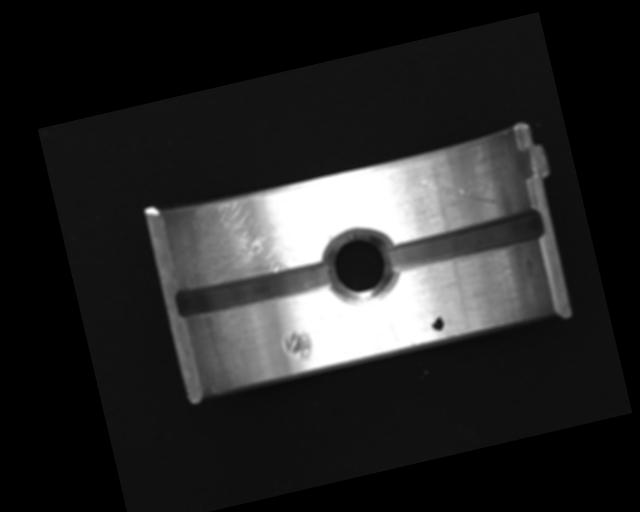blot: (427, 310, 445, 334)
bruise: (281, 326, 315, 366)
gap: (171, 253, 337, 323), (388, 208, 547, 274)
hole: (319, 222, 404, 311)
nick: (419, 162, 501, 220)
scratch: (169, 180, 327, 293)
